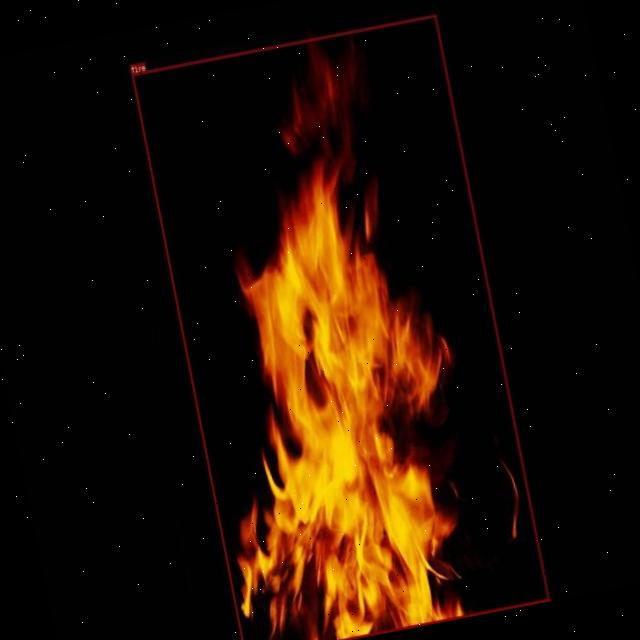fire: (131, 14, 549, 640)
